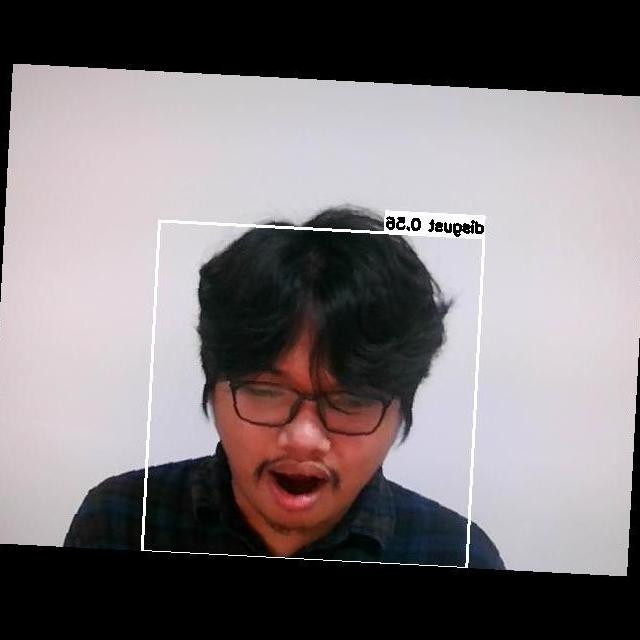Surprised: (215, 339, 402, 535)
